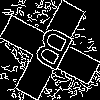B: (25, 25, 76, 81)
